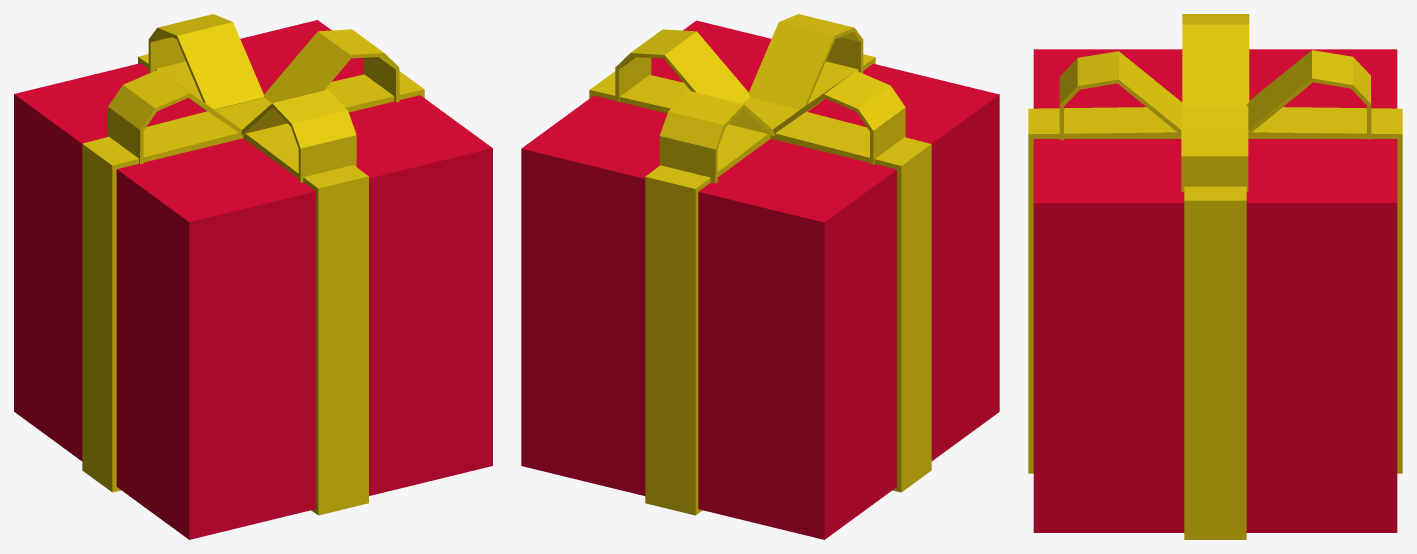
The model's file is Present.fbx.
The picture shows the model from 3 angles, left to right: view 1: azimuth 30°, elevation 25°; view 2: azimuth 150°, elevation 25°; view 3: azimuth 270°, elevation 25°; orthographic projection. The views are drawn at different scales.
Parts seen in each view (by area): view 1: Present; view 2: Present; view 3: Present.
Part boxes in pixels (<box>): Present: <box>14,14,492,539</box>; Present: <box>521,14,999,539</box>; Present: <box>1028,14,1402,539</box>.
Bounding box in the file's own units: 110 × 128 × 110.
